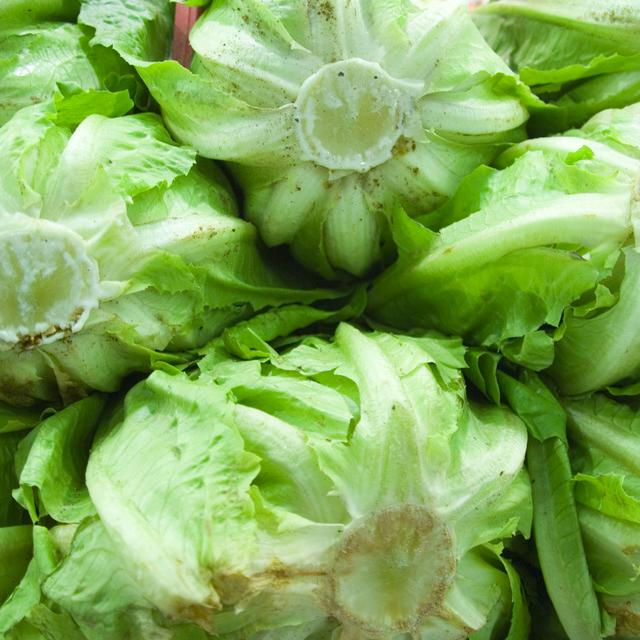cabbage: (98, 363, 546, 640), (161, 0, 532, 274), (0, 152, 293, 397), (422, 108, 640, 384), (538, 378, 640, 640), (0, 0, 139, 168), (491, 0, 640, 139), (0, 377, 61, 640)
